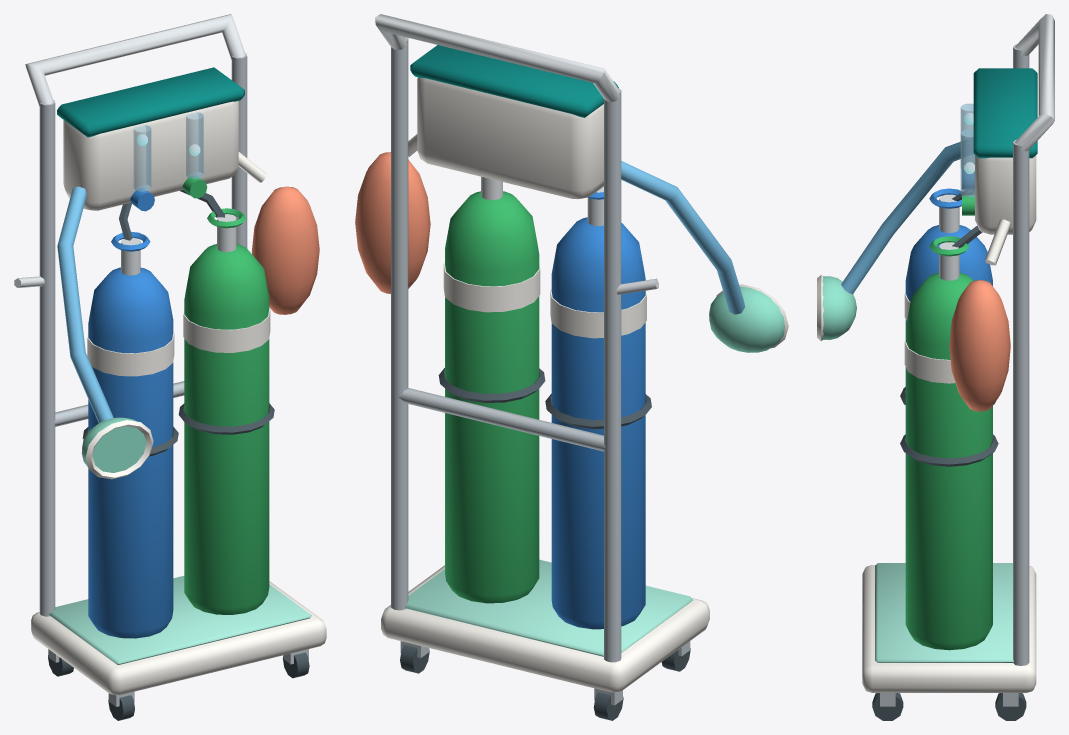
The model's file is nitrous_tank.glb.
3 renders of one model, left to right at view 1: azimuth 30°, elevation 25°; view 2: azimuth 150°, elevation 25°; view 3: azimuth 270°, elevation 25°, orthographic. The views are drawn at different scales.
Parts seen in each view (by area): view 1: NitrousTank; view 2: NitrousTank; view 3: NitrousTank.
Part boxes in pixels (x1,y1,x2,y2): NitrousTank: [14, 14, 326, 720]; NitrousTank: [355, 14, 788, 720]; NitrousTank: [817, 14, 1054, 720].
Bounding box in the file's own units: 0.7082 × 1.31 × 0.4639.
